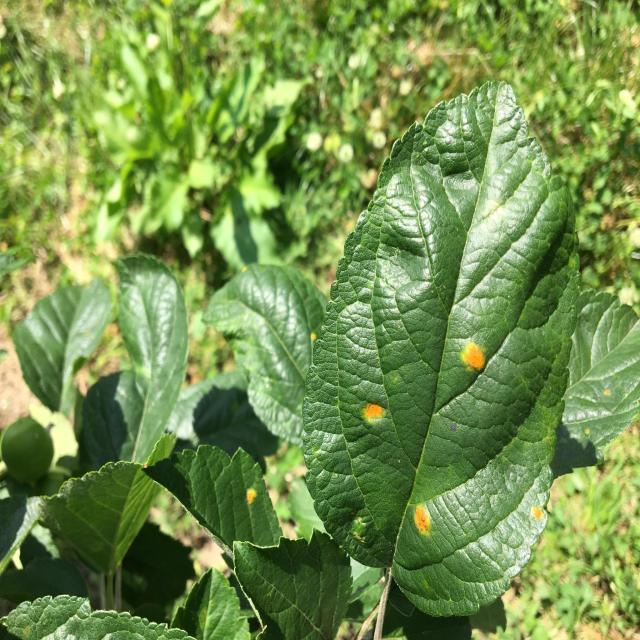Rust: (351, 380, 396, 444), (445, 336, 495, 378), (409, 496, 437, 545), (237, 477, 270, 514), (530, 494, 547, 533)
